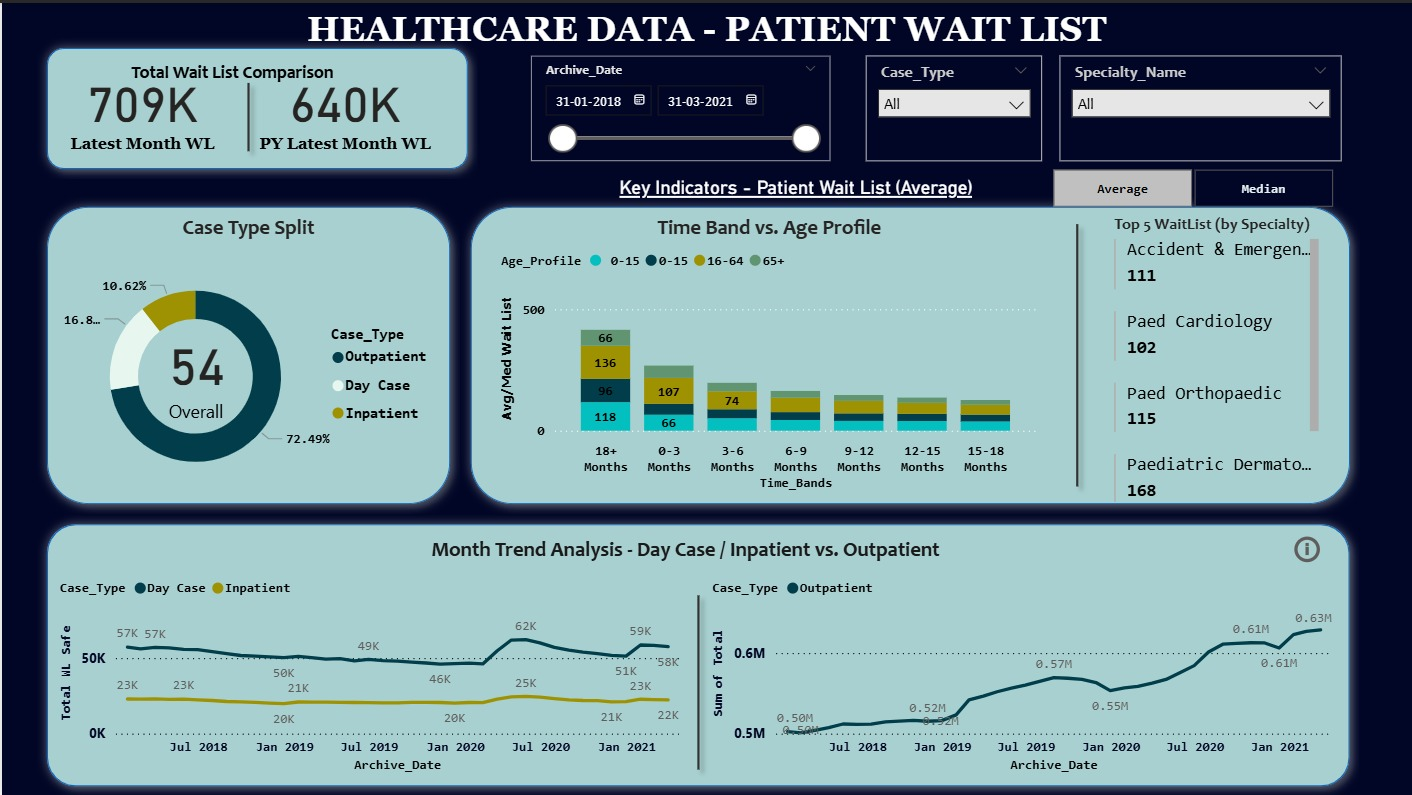

What the dashboard file says about the page in this screenshot:
{"tool":"powerbi","page":{"name":"Summary","canvas":[1280,720],"ordinal":0},"visuals":[{"type":"shape","box":[416,176,816,288],"z":0},{"type":"shape","box":[32,464,1200,256],"z":1000},{"type":"shape","box":[32,176,384,288],"z":2000},{"type":"shape","box":[32,32,400,128],"z":3000},{"type":"card","fields":{"Values":["Append1.LatestMonth Wait List"]},"box":[32,48,192,96],"z":4000},{"type":"slicer","fields":{"Values":["Calculation Table (2).Calc Method"]},"box":[928,144,304,48],"z":5000},{"type":"card","fields":{"Values":["Append1.PY LatestMonth Wait List"]},"box":[208,48,208,96],"z":6000},{"type":"donutChart","title":"Case Type Split","fields":{"Category":["Append1.Case_Type"],"Y":["Append1.Avg/Med Wait List"]},"box":[48,192,352,256],"z":7000},{"type":"columnChart","title":"Time Band vs. Age Profile","fields":{"Category":["Append1.Time_Bands"],"Series":["Append1.Age_Profile"],"Y":["Append1.Avg/Med Wait List"]},"box":[448,192,496,256],"z":8000},{"type":"multiRowCard","title":"Top 5 WaitList (by Specialty)","fields":{"Values":["Append1.Specialty_Name","Append1.Avg/Med Wait List"]},"box":[1008,192,192,261],"z":9000},{"type":"lineChart","fields":{"Category":["Append1.Archive_Date"],"Y":["Append1.Total WL Safe"],"Series":["Append1.Case_Type"]},"box":[48,512,576,192],"z":10000},{"type":"lineChart","fields":{"Category":["Append1.Archive_Date"],"Y":["Sum(Append1.Total)"],"Series":["Append1.Case_Type"]},"box":[640,512,576,192],"z":11000},{"type":"slicer","fields":{"Values":["Append1.Archive_Date"]},"box":[480,48,272,96],"z":12000},{"type":"slicer","fields":{"Values":["Append1.Case_Type"]},"box":[784,48,160,96],"z":13000},{"type":"slicer","fields":{"Values":["Append1.Specialty_Name"]},"box":[960,48,256,96],"z":14000},{"type":"textbox","box":[48,0,1184,48],"z":15000},{"type":"card","fields":{"Values":["Append1.Avg/Med Wait List"]},"box":[112,272,128,128],"z":16000},{"type":"shape","box":[192,64,64,80],"z":17000},{"type":"textbox","box":[384,480,544,48],"z":18000},{"type":"textbox","box":[112,48,256,32],"z":19000},{"type":"card","fields":{"Values":["Append1.Dynamic Title"]},"box":[544,144,352,48],"z":20000},{"type":"card","fields":{"Values":["Append1.NoDataLeft"]},"box":[176,528,320,160],"z":21000},{"type":"card","fields":{"Values":["Append1.NoDataRight"]},"box":[768,528,320,160],"z":22000},{"type":"shape","box":[944,192,64,256],"z":23000},{"type":"shape","box":[608,528,48,176],"z":24000},{"type":"actionButton","box":[1168,480,32,32],"z":25000}]}

Visuals, with their boxes in screenshot pixels (x1, y1, x2, y2), scaled from the page's 1280x720 canvas onto the 1412x795 screenshot:
shape: (459,194,1359,512)
shape: (35,512,1359,794)
shape: (35,194,459,512)
shape: (35,35,477,177)
card - Append1.LatestMonth Wait List: (35,53,247,159)
slicer - Calculation Table (2).Calc Method: (1024,159,1359,212)
card - Append1.PY LatestMonth Wait List: (229,53,459,159)
"Case Type Split" donutChart: (53,212,441,495)
"Time Band vs. Age Profile" columnChart: (494,212,1041,495)
"Top 5 WaitList (by Specialty)" multiRowCard: (1112,212,1324,500)
lineChart - Append1.Archive_Date x Append1.Total WL Safe: (53,565,688,777)
lineChart - Append1.Archive_Date x Sum(Append1.Total): (706,565,1341,777)
slicer - Append1.Archive_Date: (530,53,830,159)
slicer - Append1.Case_Type: (865,53,1041,159)
slicer - Append1.Specialty_Name: (1059,53,1341,159)
textbox: (53,0,1359,53)
card - Append1.Avg/Med Wait List: (124,300,265,442)
shape: (212,71,282,159)
textbox: (424,530,1024,583)
textbox: (124,53,406,88)
card - Append1.Dynamic Title: (600,159,988,212)
card - Append1.NoDataLeft: (194,583,547,760)
card - Append1.NoDataRight: (847,583,1200,760)
shape: (1041,212,1112,495)
shape: (671,583,724,777)
actionButton: (1288,530,1324,565)
